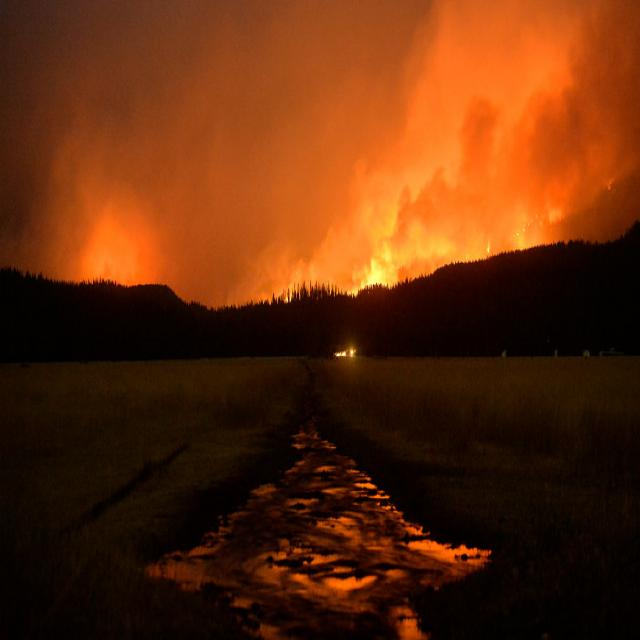fire: (376, 168, 460, 268), (80, 207, 151, 294), (485, 202, 559, 260), (276, 258, 314, 308), (359, 256, 393, 296)
